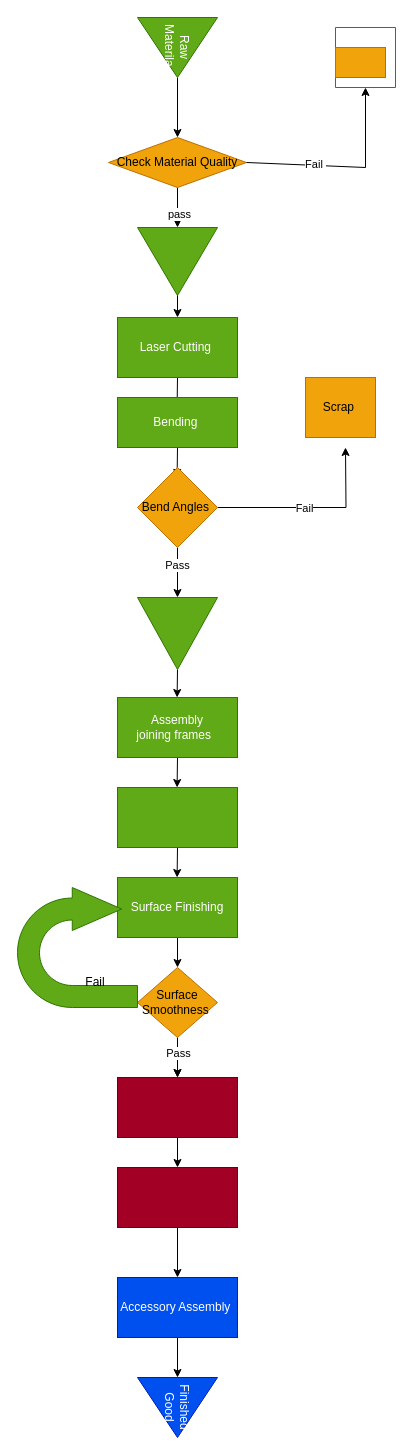
The diagram is 413 pixels wide and 1455 high, and some of its shapes have lost their labels. Here are the shapes that lost their labels. From the top down, the centre of each, then its label:
At (360,62): "Reject to Supplier".
At (177,261): "pre laser".
At (177,633): "Pre Assmply".
At (177,817): "Comressing".
At (177,1107): "Paint".
At (177,1197): "Oven".
